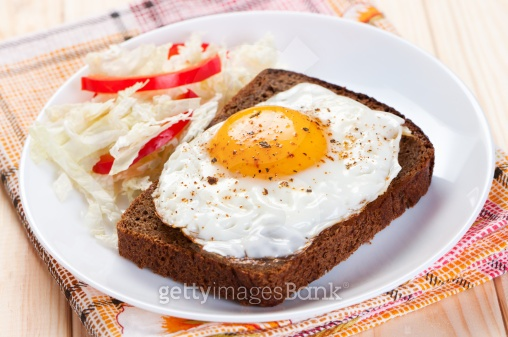fried egg: (167, 93, 389, 247)
slice of bread: (120, 77, 432, 270)
